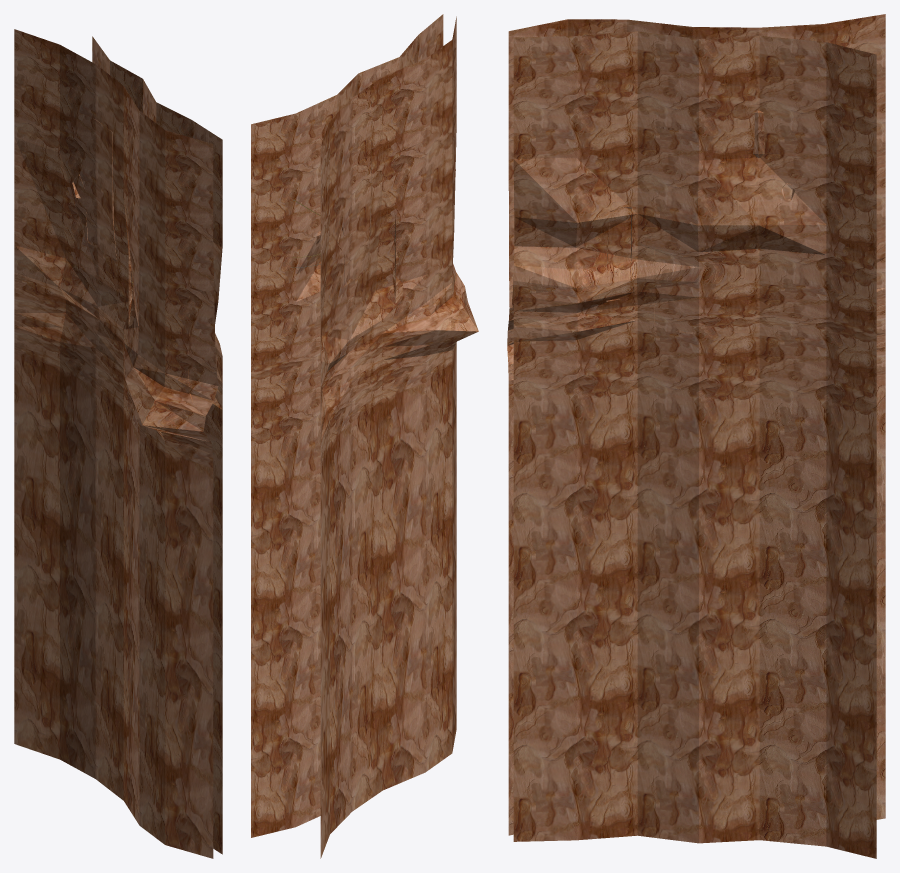
File: railcanyon1.obj
The picture shows the model from 3 angles, left to right: view 1: azimuth 30°, elevation 25°; view 2: azimuth 150°, elevation 25°; view 3: azimuth 270°, elevation 25°; orthographic projection. The views are drawn at different scales.
Parts seen in each view (by area): view 1: Object_2; view 2: Object_2; view 3: Object_2.
Boxes of the visible parts, x1,y1,x2,y2 form: Object_2: (14,29,222,858); Object_2: (251,14,478,858); Object_2: (507,14,885,858).
Bounding box in the file's own units: 3210 × 24626 × 10505.
Materials: 9 (9 with a texture image).
